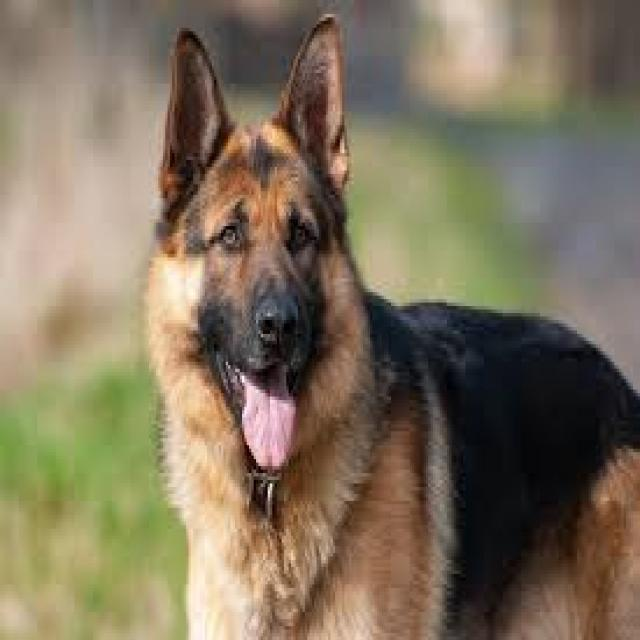Dog: (144, 13, 640, 640)
